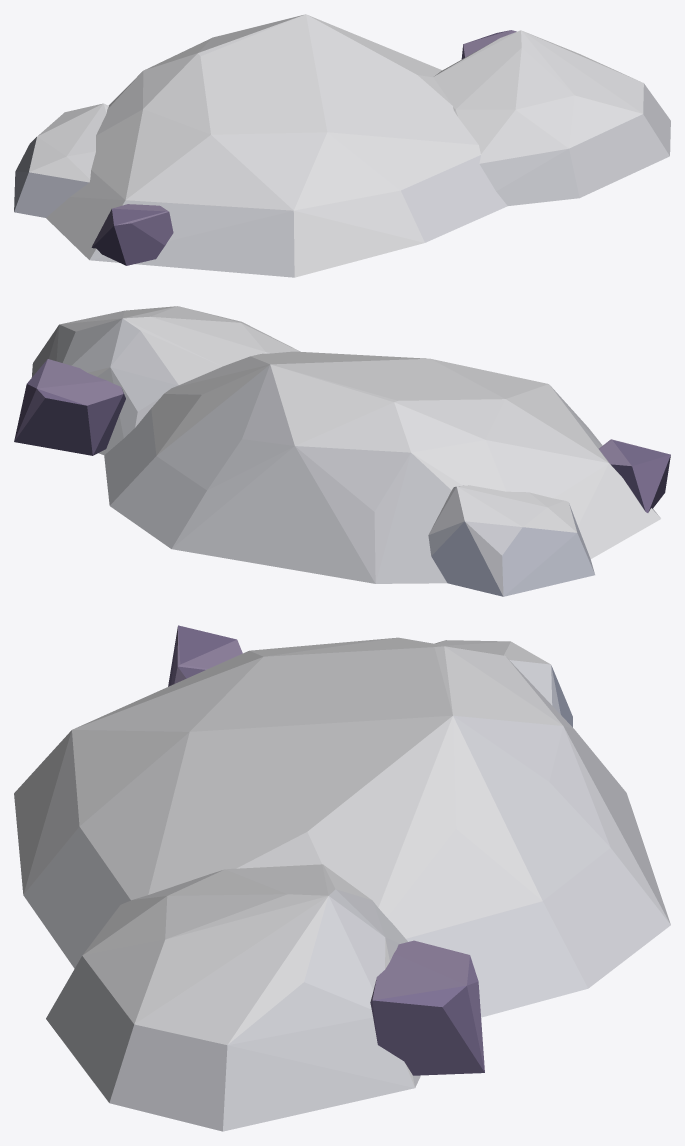
Rendered from mtn_snow_drift.glb.
The picture shows the model from 3 angles, top to bottom: view 1: azimuth 30°, elevation 25°; view 2: azimuth 150°, elevation 25°; view 3: azimuth 270°, elevation 25°; orthographic projection. The views are drawn at different scales.
Parts seen in each view (by area): view 1: mtn_snow_drift; view 2: mtn_snow_drift; view 3: mtn_snow_drift.
Boxes of the visible parts, x1,y1,x2,y2 form: mtn_snow_drift: [14, 14, 670, 277]; mtn_snow_drift: [14, 306, 670, 596]; mtn_snow_drift: [14, 625, 670, 1131].
Size of the model in its own units: 6.07 by 1.22 by 3.76.
